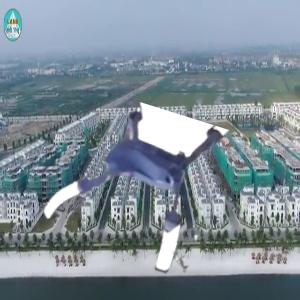drone: (47, 103, 213, 269)
